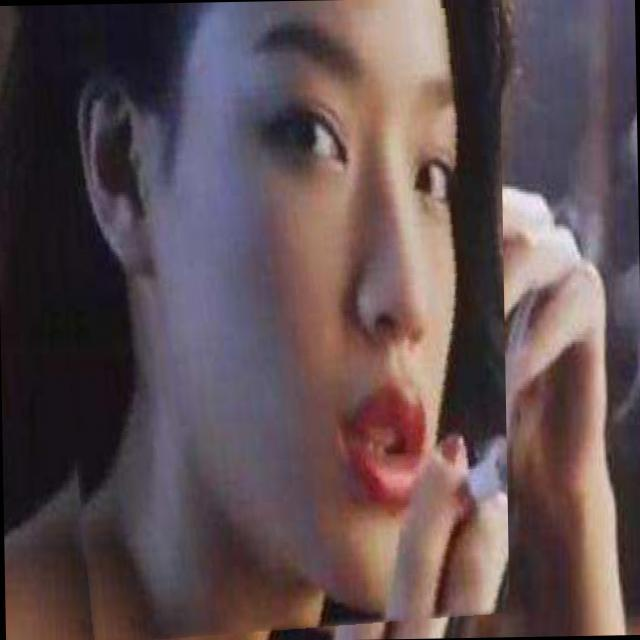cigarette: (386, 443, 492, 557)
